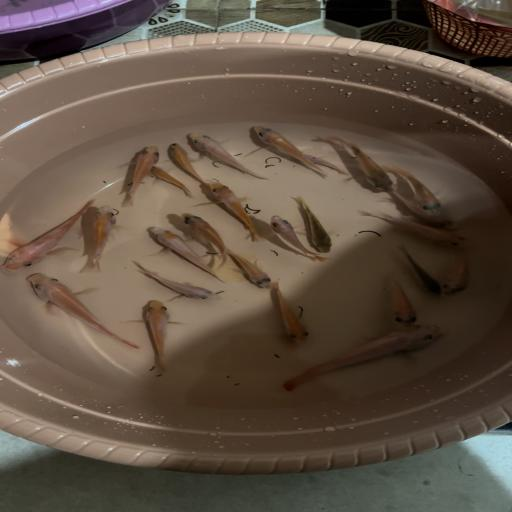nila: (280, 322, 450, 396), (23, 272, 144, 352), (0, 200, 100, 273), (145, 227, 229, 283), (246, 122, 329, 178), (358, 213, 476, 251), (132, 293, 182, 381), (183, 134, 280, 179), (201, 181, 273, 236), (127, 263, 224, 303), (330, 135, 397, 192), (174, 212, 240, 264), (256, 286, 314, 345), (111, 142, 160, 207), (380, 192, 461, 230), (392, 245, 448, 297), (85, 202, 124, 274), (265, 214, 326, 260), (370, 274, 422, 326), (390, 168, 448, 214), (294, 198, 339, 254), (224, 249, 277, 289), (166, 139, 211, 182), (438, 251, 480, 297), (294, 150, 354, 180), (144, 168, 198, 200)
